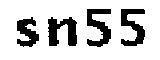5: (83, 6, 114, 48), (117, 7, 147, 48)
n: (46, 15, 80, 49)
s: (13, 14, 39, 48)
